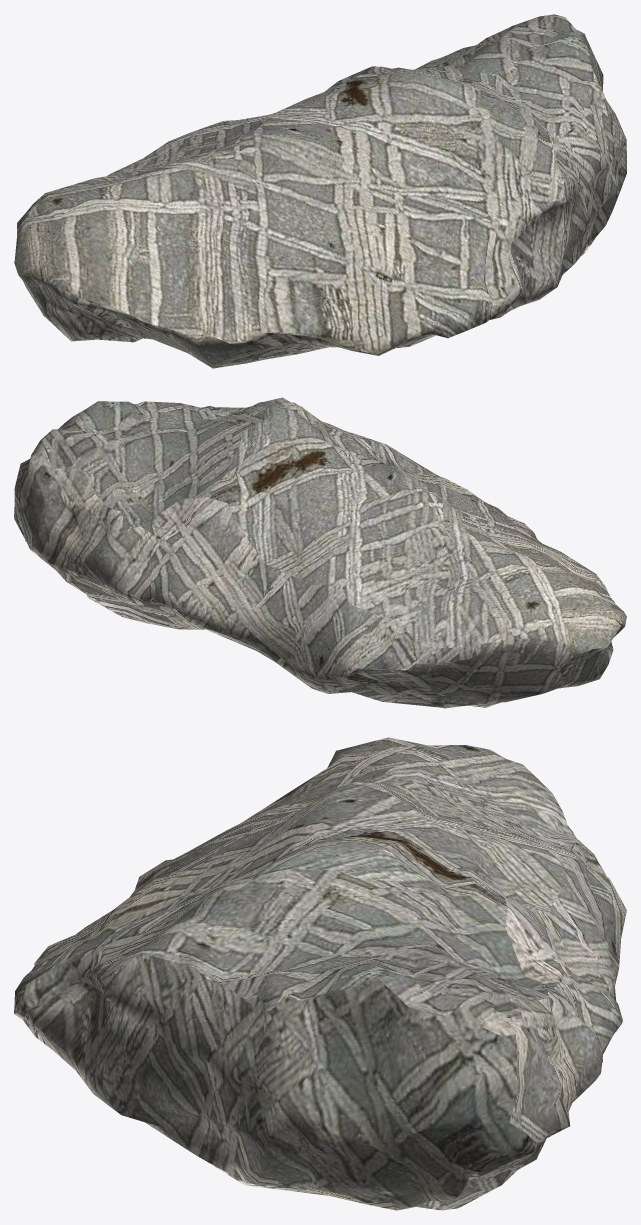
File: Siderito.fbx
3 renders of one model, top to bottom at view 1: azimuth 30°, elevation 25°; view 2: azimuth 150°, elevation 25°; view 3: azimuth 270°, elevation 25°, orthographic. The views are drawn at different scales.
Parts seen in each view (by area): view 1: Object_2; view 2: Object_2; view 3: Object_2.
Part boxes in pixels (left/top/right/bottom): Object_2: left=14, top=14, right=626, bottom=368; Object_2: left=14, top=397, right=626, bottom=708; Object_2: left=14, top=737, right=626, bottom=1210.
Bounding box in the file's own units: 152 × 49.63 × 97.4.
Materials: 1 (1 with a texture image).
